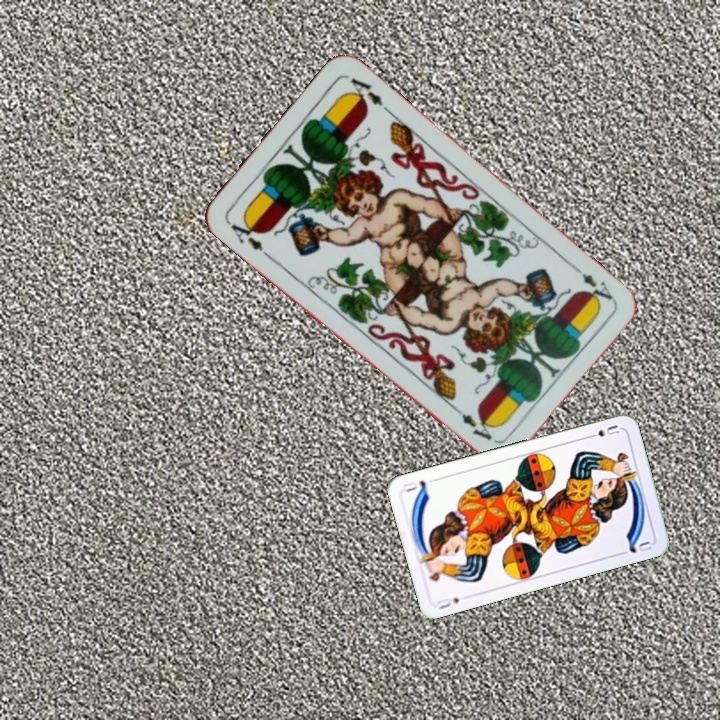EA: (567, 260, 615, 307), (223, 214, 266, 254)
SU: (583, 421, 622, 441), (433, 593, 462, 612)
